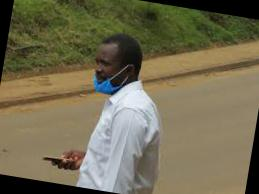mask_weared_incorrect: (90, 50, 118, 95)
